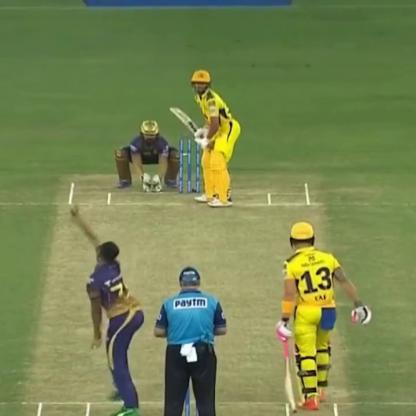ball: (87, 332, 105, 352)
bat: (271, 322, 316, 416), (157, 98, 208, 150)
pitch: (34, 173, 360, 416)
